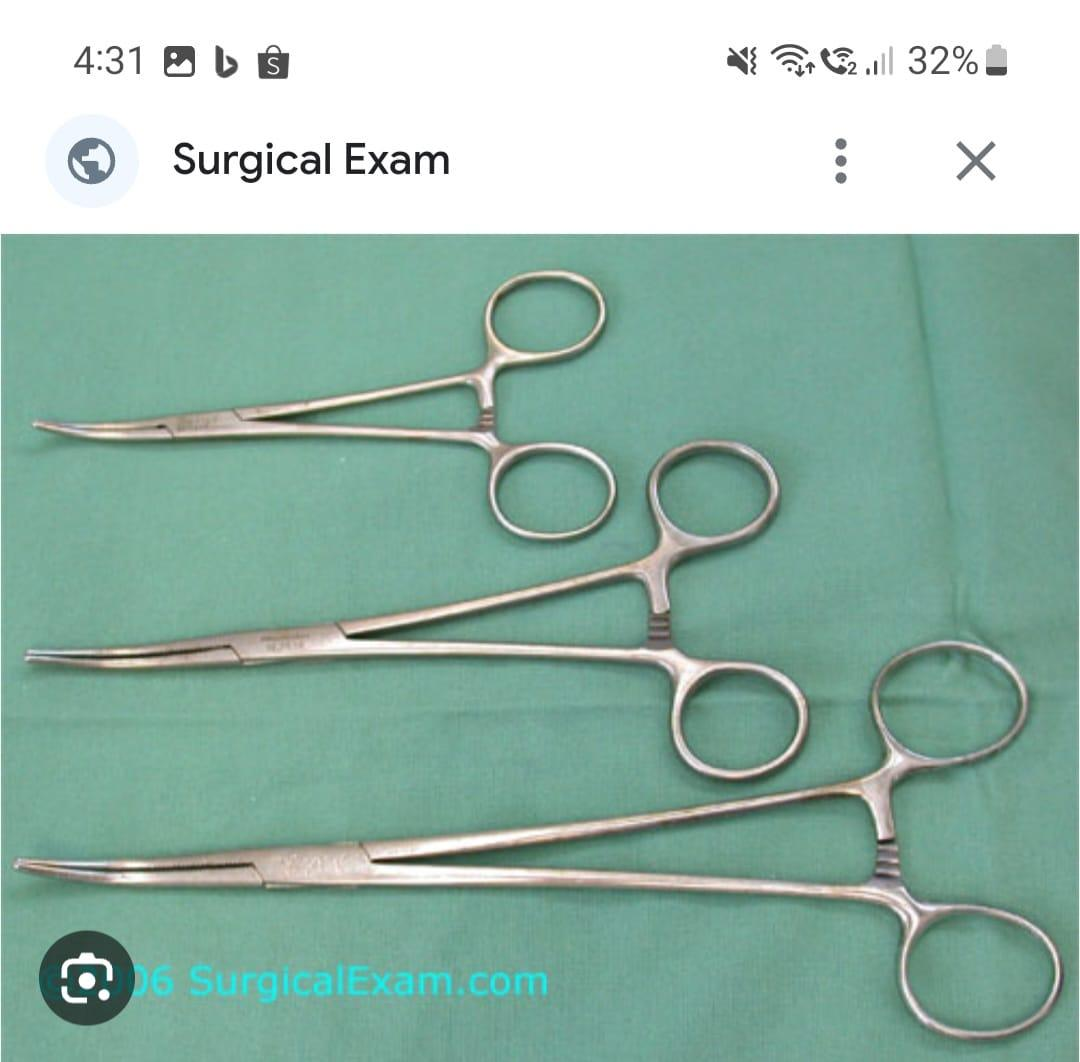Artery Forceps: (7, 638, 1068, 1047), (20, 437, 828, 790), (25, 267, 625, 542)
